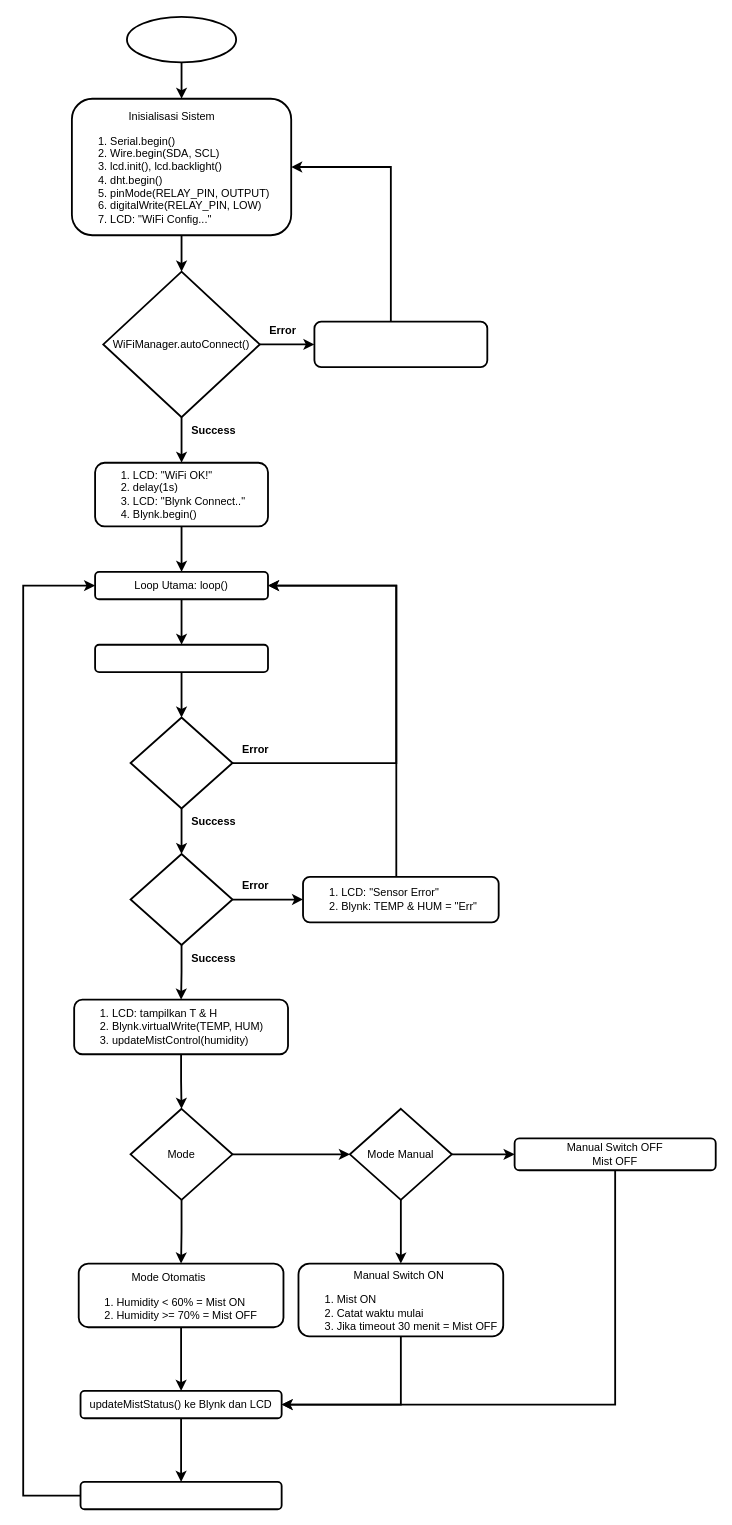
This 732x1525 diagram has some shape labels left out. The box of each missing label's shape, as (x1, y1, x2, y2) in pixels:
Baca Sensor DHT22: (129, 853, 233, 945)
Blynk.run(): (94, 643, 268, 672)
Kembali ke atas (Loop): (79, 1481, 282, 1510)
LCD: "WiFi Failed :(" delay(3s), ESP.restart(): (313, 320, 488, 368)
Setiap 2 Detik: (129, 716, 233, 809)
Start: (126, 15, 237, 63)
